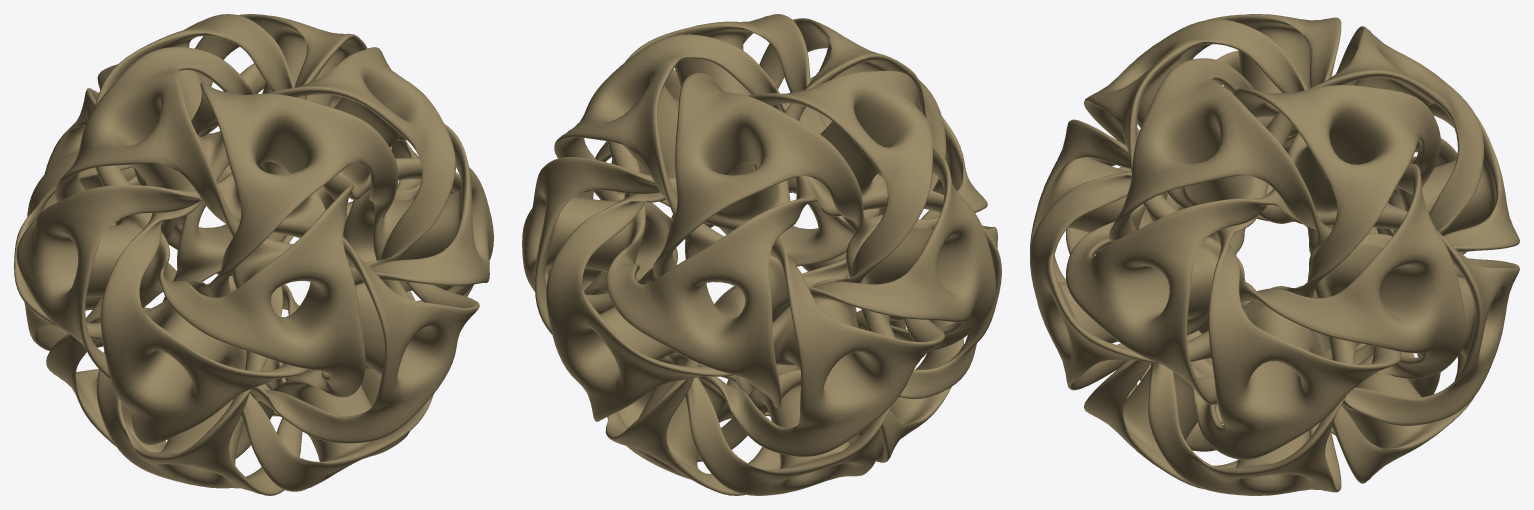
3 views of the same model, side by side, from view 1: azimuth 30°, elevation 25°; view 2: azimuth 150°, elevation 25°; view 3: azimuth 270°, elevation 25° (orthographic).
Visible parts, largest first — view 1: Tulip_Sphere; view 2: Tulip_Sphere; view 3: Tulip_Sphere.
Part boxes in pixels (x1,y1,x2,y2): Tulip_Sphere: (14, 14, 493, 495); Tulip_Sphere: (522, 14, 1001, 495); Tulip_Sphere: (1030, 14, 1519, 495).
Size of the model in its own units: 0.0578 by 0.0529 by 0.0588.
